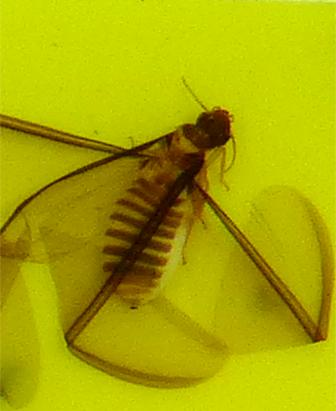Isoptera: (100, 100, 236, 311)
